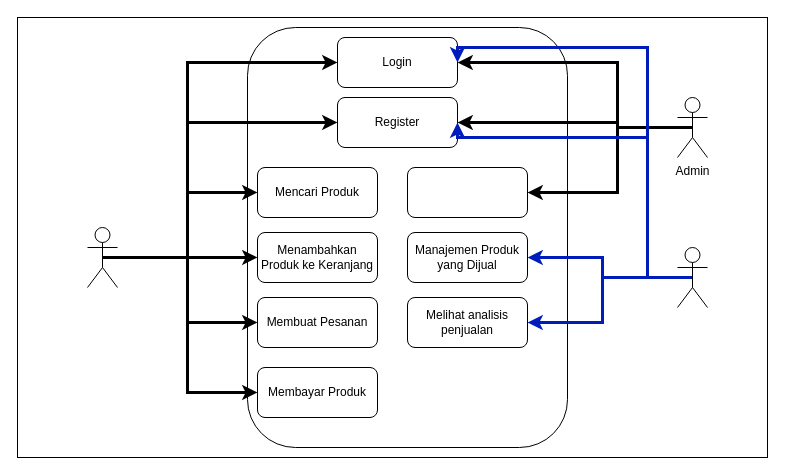
Image size: 785x475. Some labels were removed from this diagram. The shapes that lost their labels are listed below. From the top down, each one's centre as x and y in pixels, then its label:
the point at 467,192: Mengawasi Jual-Beli
the point at 102,257: User
the point at 692,277: Penjual
